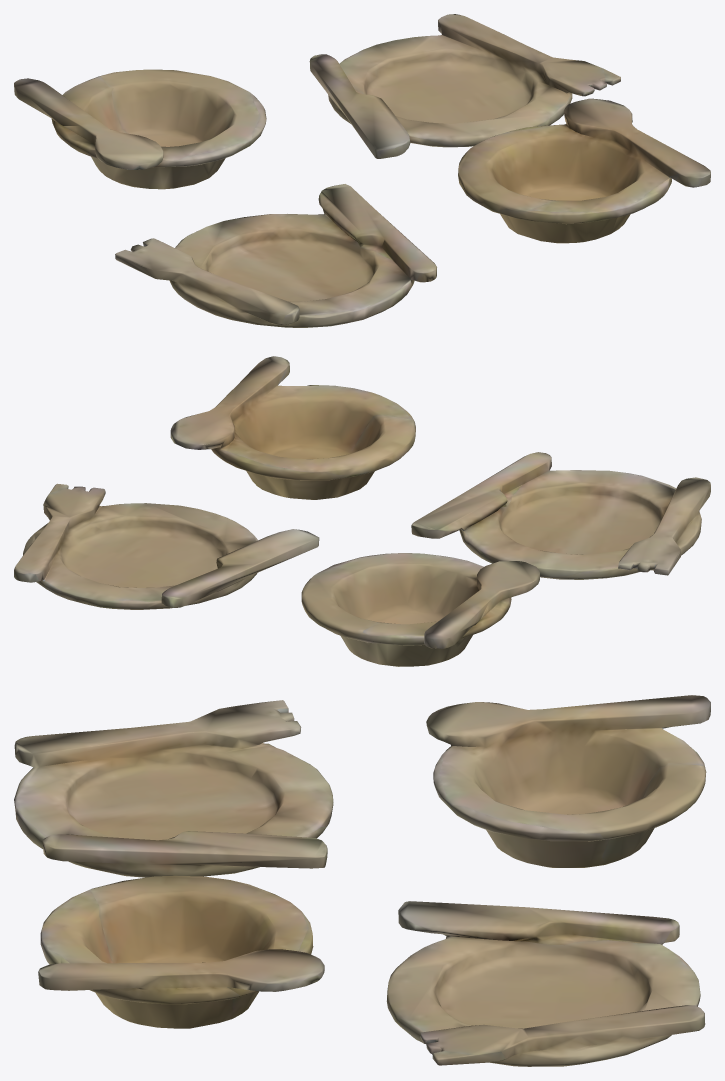
Rendered from TABLEWARE_SET-high.glb.
3 views of the same model, one above another, from view 1: azimuth 30°, elevation 25°; view 2: azimuth 150°, elevation 25°; view 3: azimuth 270°, elevation 25° (orthographic). The views are drawn at different scales.
Parts seen in each view (by area): view 1: TABLEWARE_SET; view 2: TABLEWARE_SET; view 3: TABLEWARE_SET.
Boxes of the visible parts, left/top/right/bottom form: TABLEWARE_SET: left=14, top=14, right=710, bottom=327; TABLEWARE_SET: left=14, top=356, right=710, bottom=666; TABLEWARE_SET: left=14, top=695, right=710, bottom=1066.
Size of the model in its own units: 0.3505 by 0.0405 by 0.2928.
1 material, 1 textured.
